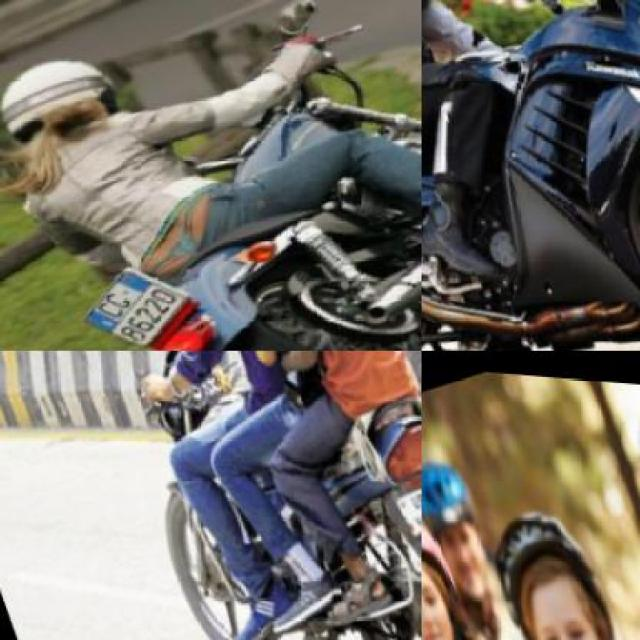With Helmet: (458, 471, 638, 638), (0, 21, 143, 176), (422, 434, 518, 623), (422, 482, 492, 638)
